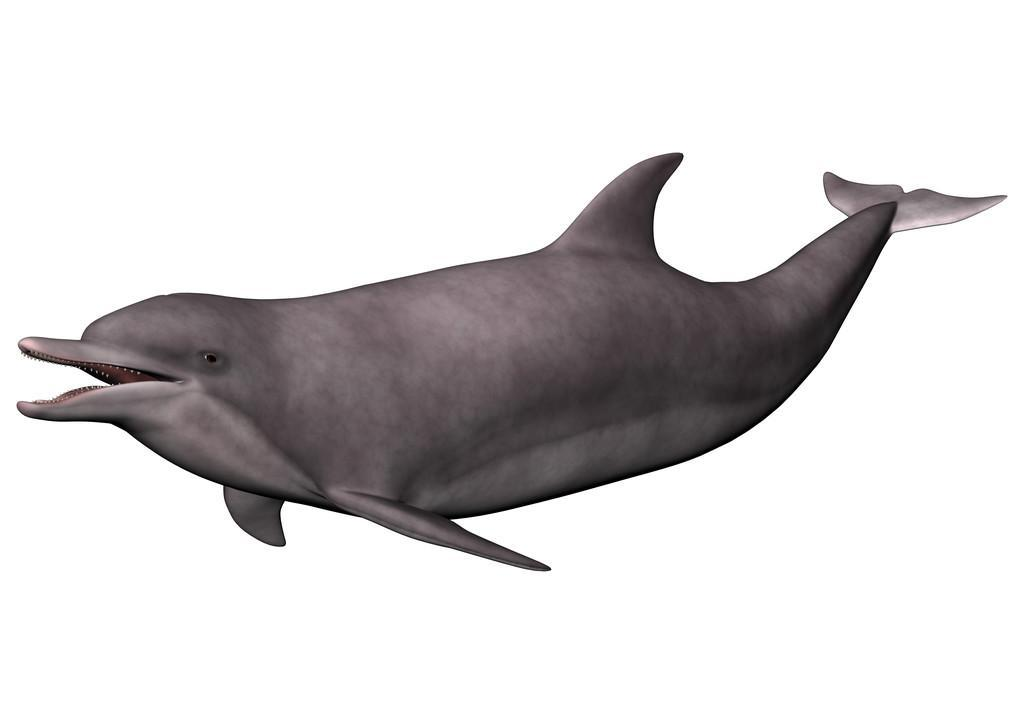fish: (15, 151, 1012, 573)
